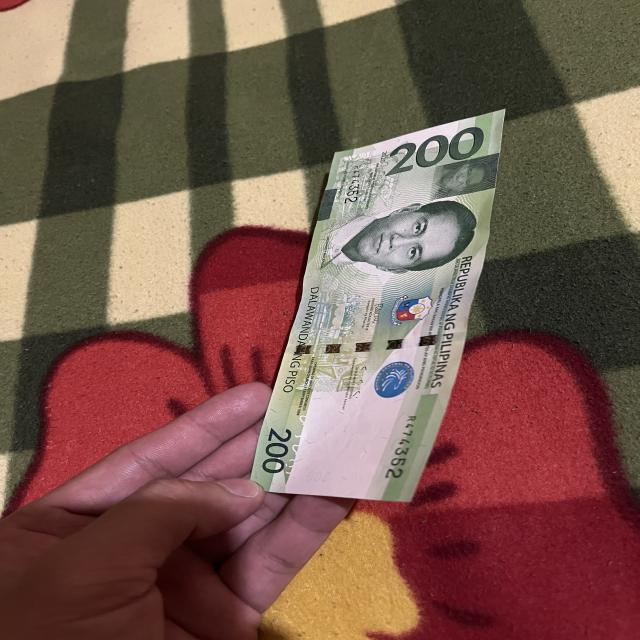concealed_value: (429, 152, 500, 201)
security_thread: (284, 332, 466, 356)
see_through_mark: (281, 411, 316, 477)
serial_number: (383, 408, 420, 480), (342, 163, 366, 204)
value: (384, 124, 486, 179)
value_watermark: (302, 468, 333, 484)
watermark: (302, 406, 396, 483)
